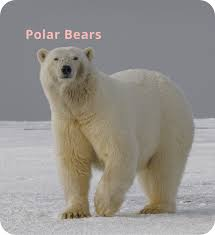PolarBear: (28, 42, 195, 220)
